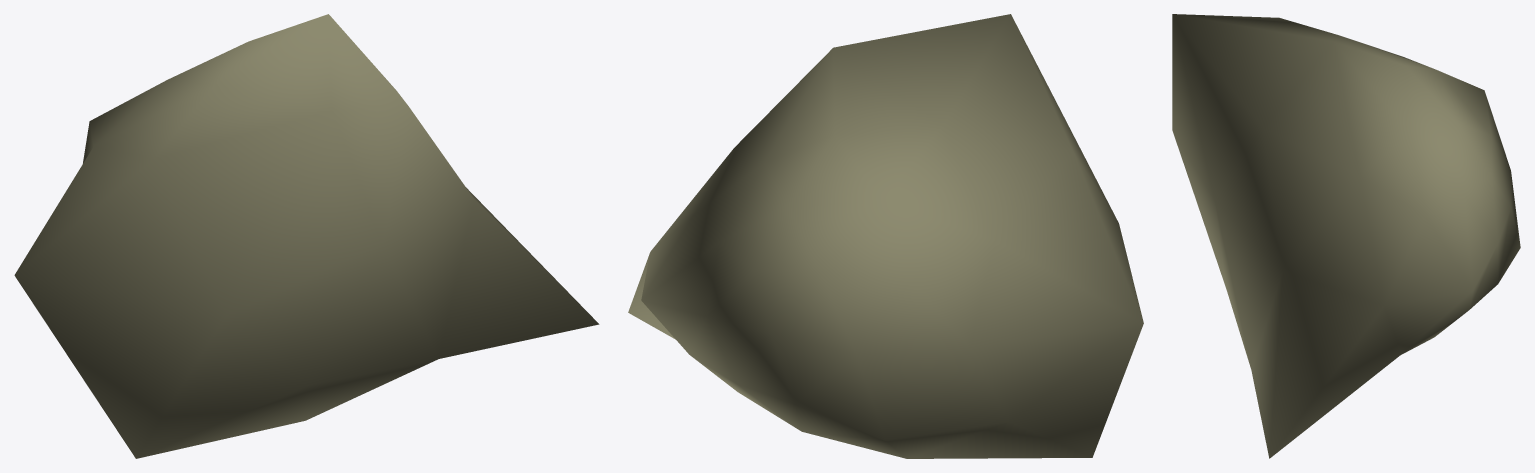
The model's file is fragmento .fbx.
3 renders of one model, left to right at view 1: azimuth 30°, elevation 25°; view 2: azimuth 150°, elevation 25°; view 3: azimuth 270°, elevation 25°, orthographic. The views are drawn at different scales.
Visible parts, largest first — view 1: Icosphere; view 2: Icosphere; view 3: Icosphere.
Part boxes in pixels (box(x1,y1,x2,y2)): Icosphere: box(14, 14, 599, 458); Icosphere: box(628, 14, 1143, 458); Icosphere: box(1172, 14, 1520, 458).
Size of the model in its own units: 167 by 114 by 102.
